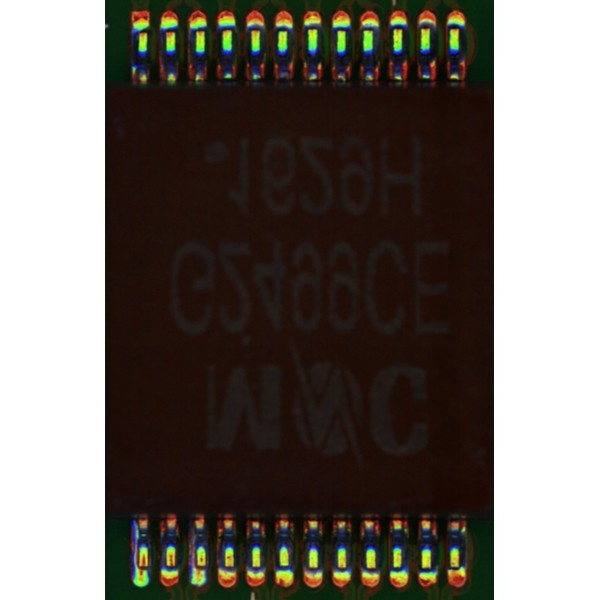Bad_podu: (139, 561, 147, 578)
Bad_qiaojiao: (132, 520, 139, 570)
